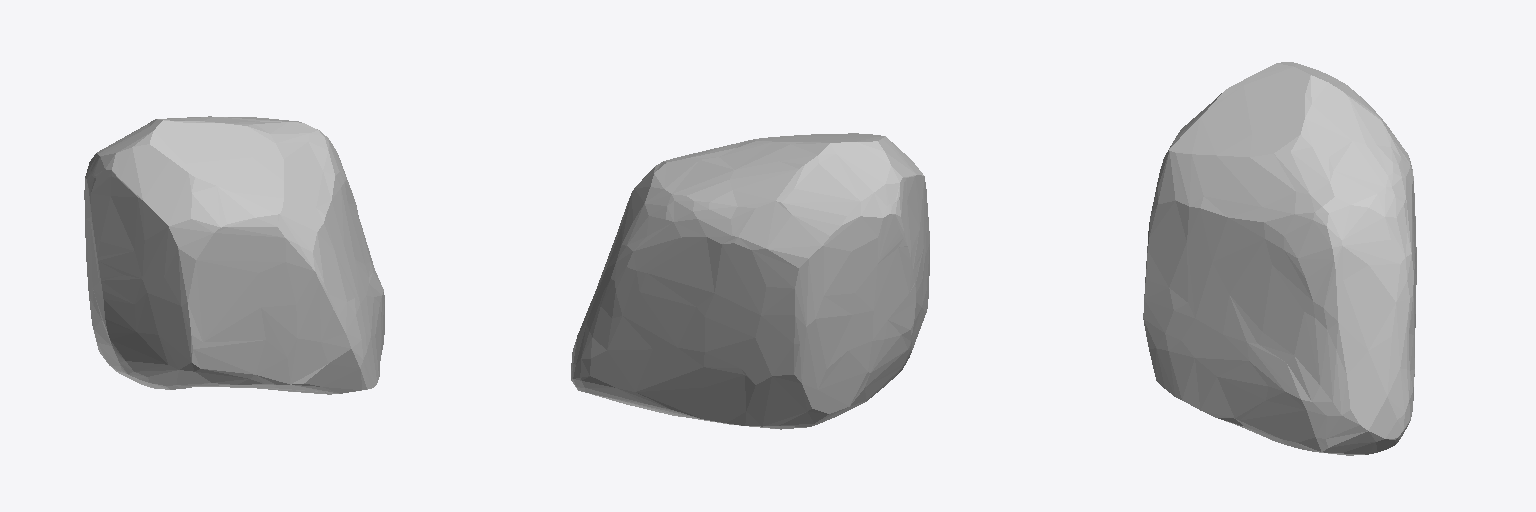
Rendered from rock2.OBJ.
The picture shows the model from 3 angles: view 1: azimuth 30°, elevation 25°; view 2: azimuth 150°, elevation 25°; view 3: azimuth 270°, elevation 25°; orthographic projection.
Visible parts, largest first — view 1: rock2:Group2; view 2: rock2:Group2; view 3: rock2:Group2.
Boxes of the visible parts, box(x1,y1,x2,y2) form: rock2:Group2: box(84, 116, 384, 394); rock2:Group2: box(571, 133, 929, 429); rock2:Group2: box(1143, 62, 1416, 455).
Size of the model in its own units: 36.85 by 33.26 by 28.78.